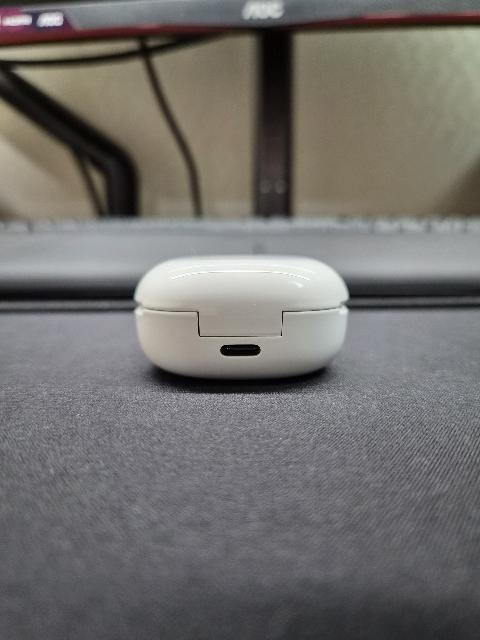earphone_case: (133, 255, 349, 380)
